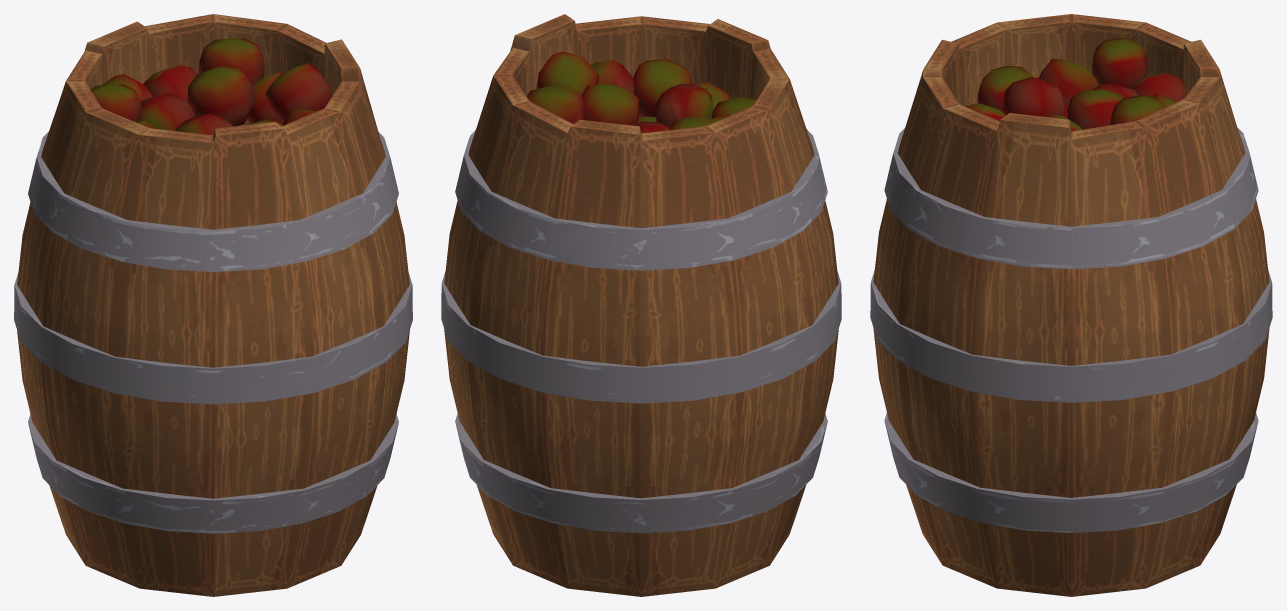
Rendered from Barrel_Apples.gltf.
3 renders of one model, left to right at view 1: azimuth 30°, elevation 25°; view 2: azimuth 150°, elevation 25°; view 3: azimuth 270°, elevation 25°, orthographic.
Parts seen in each view (by area): view 1: Barrel_Apples; view 2: Barrel_Apples; view 3: Barrel_Apples.
Boxes of the visible parts, bbox=[...] form: Barrel_Apples: bbox=[14, 14, 412, 596]; Barrel_Apples: bbox=[441, 14, 841, 596]; Barrel_Apples: bbox=[870, 14, 1272, 596].
Bounding box in the file's own units: 0.698 × 0.898 × 0.698.
Materials: 3 (3 with a texture image).
